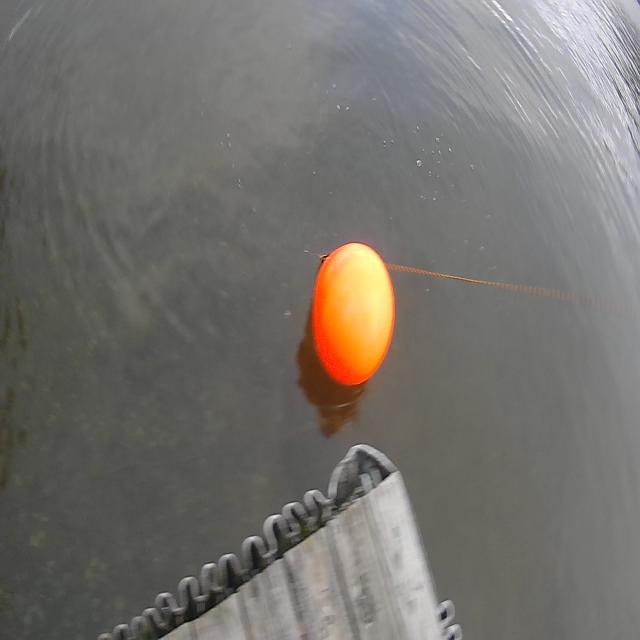Buoy: (304, 234, 399, 393)
